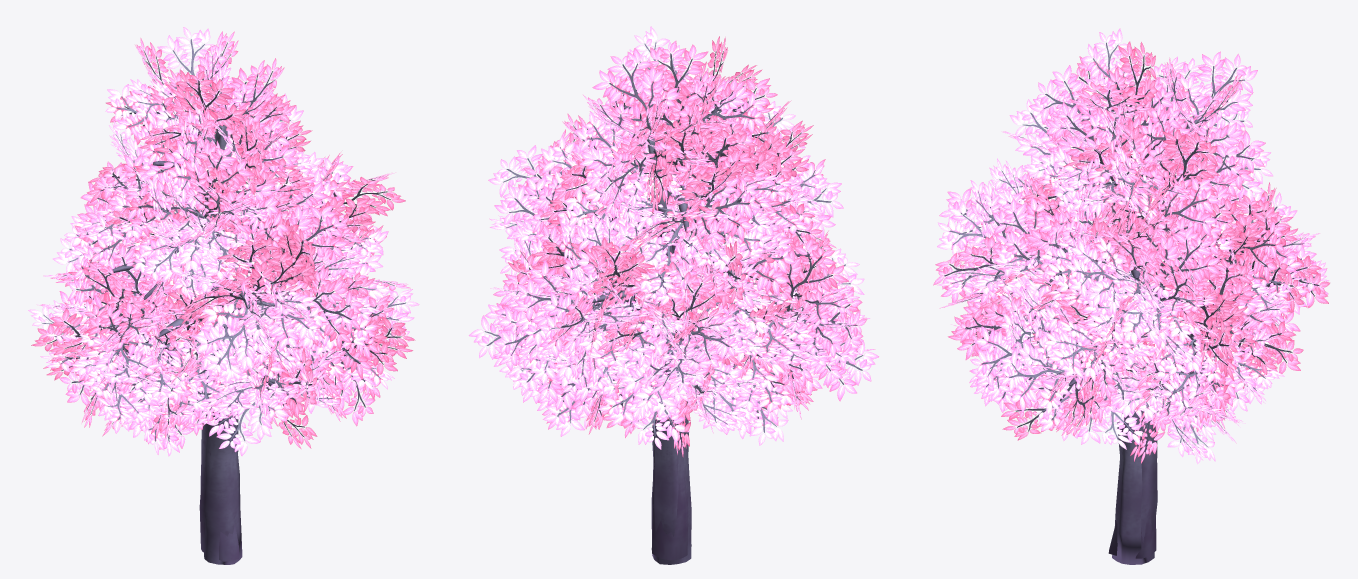
File: EXPORT_Tree_Björk.fbx
3 renders of one model, left to right at view 1: azimuth 30°, elevation 25°; view 2: azimuth 150°, elevation 25°; view 3: azimuth 270°, elevation 25°, orthographic. The views are drawn at different scales.
Visible parts, largest first — view 1: OBJ_Tree_Bjork_02_lod0, OBJ_Tree_Bjork_03_lod0, OBJ_Tree_Bjork_01_lod0; view 2: OBJ_Tree_Bjork_02_lod0, OBJ_Tree_Bjork_03_lod0, OBJ_Tree_Bjork_01_lod0; view 3: OBJ_Tree_Bjork_02_lod0, OBJ_Tree_Bjork_03_lod0, OBJ_Tree_Bjork_01_lod0.
Part boxes in pixels (x1,y1,x2,y2): OBJ_Tree_Bjork_02_lod0: (28,27,419,561); OBJ_Tree_Bjork_03_lod0: (50,76,397,564); OBJ_Tree_Bjork_01_lod0: (40,103,410,553); OBJ_Tree_Bjork_02_lod0: (469,26,869,560); OBJ_Tree_Bjork_03_lod0: (489,68,843,564); OBJ_Tree_Bjork_01_lod0: (494,79,878,560); OBJ_Tree_Bjork_02_lod0: (933,28,1329,555); OBJ_Tree_Bjork_03_lod0: (937,77,1305,564); OBJ_Tree_Bjork_01_lod0: (948,104,1328,558).
Size of what is drawn, in the model's own units: 624 by 799 by 588.
Materials: 3 (3 with a texture image).
